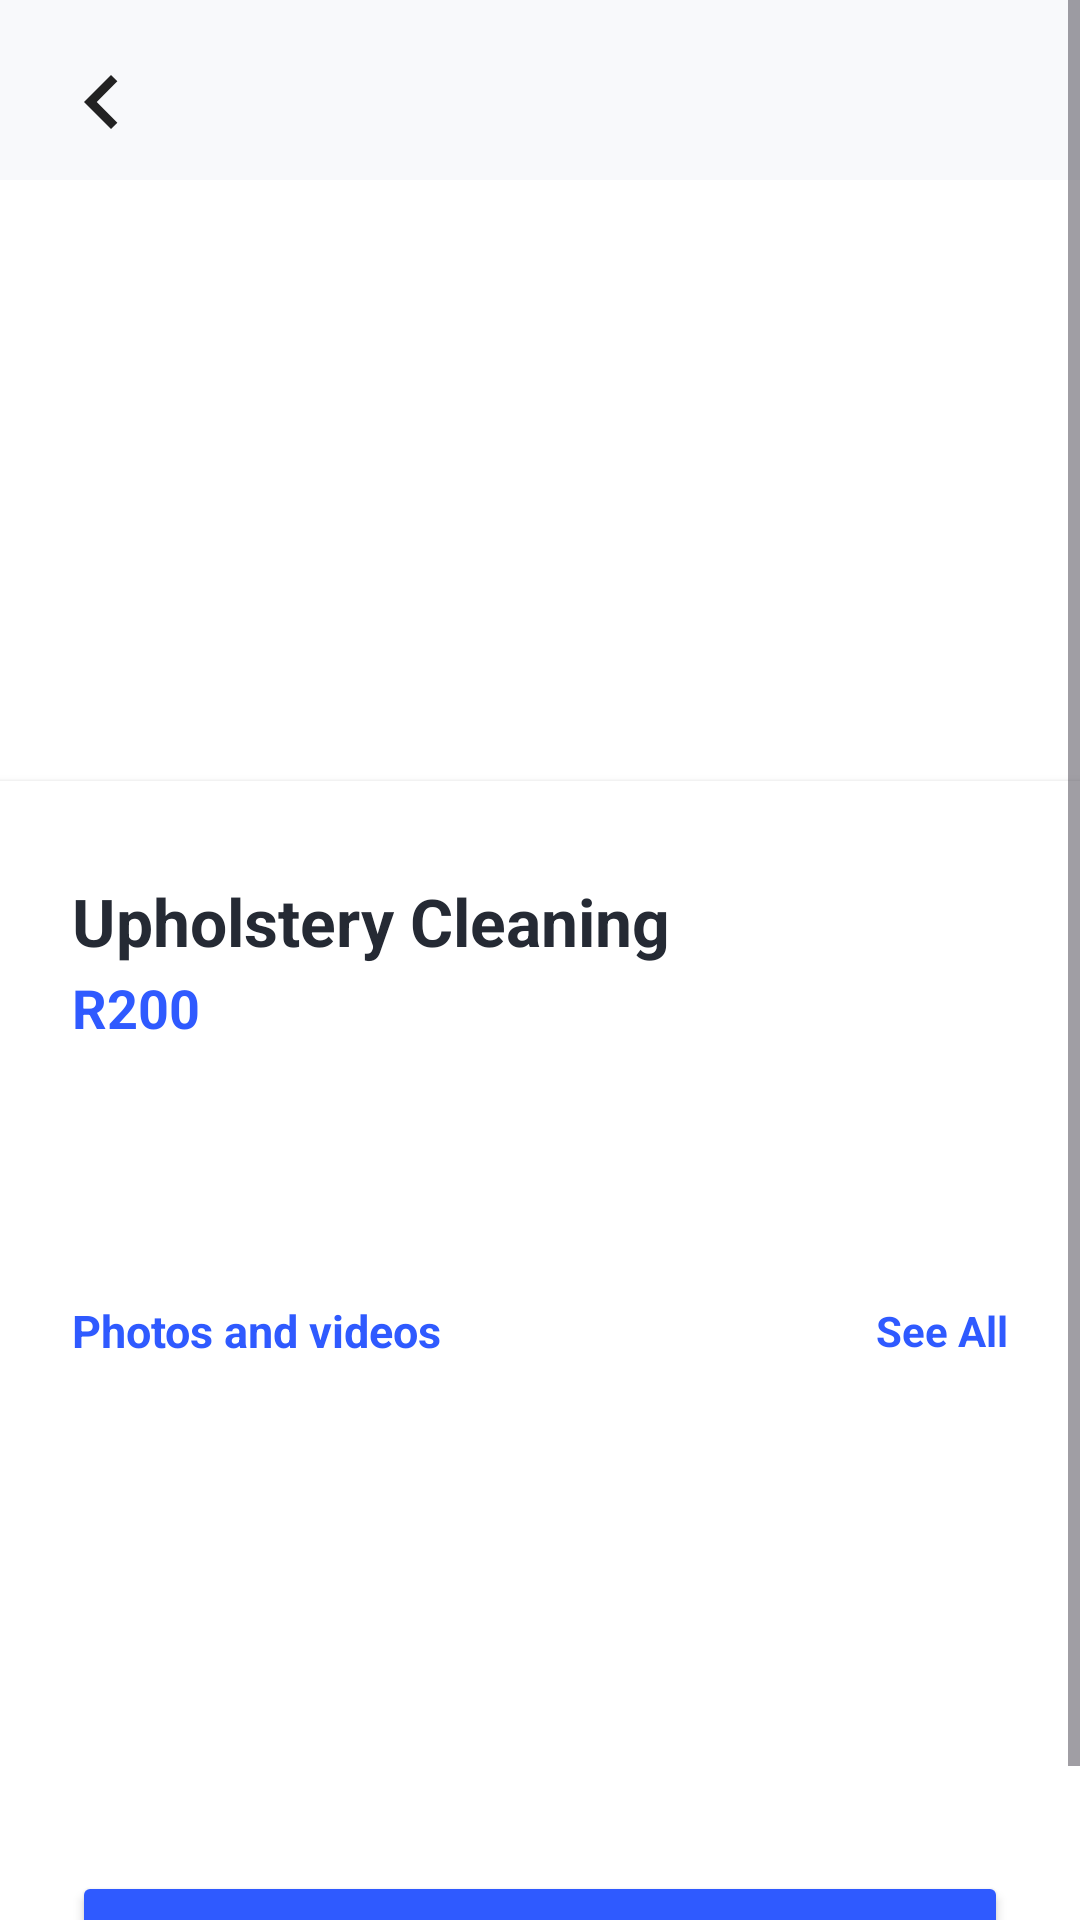

Screen size 1080px×1920px. Icon name, then its box in pixels as (x1, y1, x2, y2):
Back: (84, 75, 118, 129)
